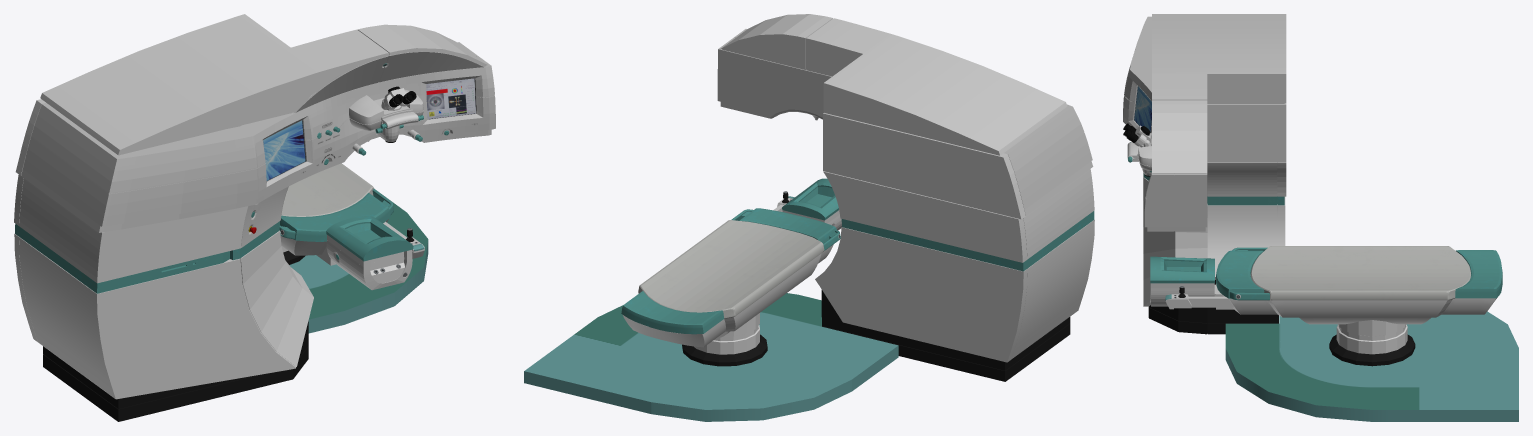
File: Laser_Vision_Correction_System.FBX
3 views of the same model, side by side, from view 1: azimuth 30°, elevation 25°; view 2: azimuth 150°, elevation 25°; view 3: azimuth 270°, elevation 25° (orthographic). The views are drawn at different scales.
Visible parts, largest first — view 1: frame2, frame5, frame3, operating_table_stand1, frame1, operating_table_frame4, screen, frame6, operating_table_frame2, operating_table_frame3, frame4, frame5_details2 (+1 smaller); view 2: frame2, operating_table_stand1, frame7, frame5, operating_table_frame3, operating_table_frame4, frame1, operating_table_frame2, frame4, operating_table_stand2, operating_table_stand3, operating_table_frame1; view 3: operating_table_stand1, frame2, operating_table_frame3, operating_table_frame2, frame5, operating_table_frame4, frame7, frame1, frame3, operating_table_frame1, operating_table_stand2, operating_table_stand3 (+4 smaller).
Boxes of the visible parts, x1,y1,x2,y2 form: frame2: (14, 14, 487, 399); frame5: (21, 42, 495, 232); frame3: (240, 186, 313, 366); operating_table_stand1: (289, 189, 428, 333); frame1: (43, 321, 308, 421); operating_table_frame4: (280, 193, 413, 261); screen: (263, 78, 476, 180); frame6: (293, 50, 484, 113); operating_table_frame2: (280, 219, 424, 290); operating_table_frame3: (281, 163, 373, 216); frame4: (15, 221, 279, 293); frame5_details2: (349, 88, 423, 141); frame2: (721, 14, 1094, 362); operating_table_stand1: (524, 293, 898, 421); frame7: (823, 113, 1025, 219); frame5: (717, 29, 1093, 215); operating_table_frame3: (638, 220, 824, 318); operating_table_frame4: (621, 178, 838, 334); frame1: (821, 290, 1070, 381); operating_table_frame2: (623, 198, 841, 347); frame4: (841, 211, 1094, 271); operating_table_stand2: (682, 334, 767, 366); operating_table_stand3: (694, 325, 759, 354); operating_table_frame1: (714, 313, 759, 341); operating_table_stand1: (1225, 311, 1518, 421); frame2: (1143, 14, 1286, 306); operating_table_frame3: (1250, 246, 1470, 300); operating_table_frame2: (1150, 283, 1497, 317); frame5: (1123, 16, 1207, 231); operating_table_frame4: (1150, 250, 1502, 298); frame7: (1207, 103, 1286, 161); frame1: (1148, 280, 1278, 334); frame3: (1143, 177, 1206, 306); operating_table_frame1: (1299, 317, 1430, 340); operating_table_stand2: (1329, 334, 1415, 366); operating_table_stand3: (1336, 324, 1407, 354).
Bounding box in the file's own units: 230 × 150 × 206.
